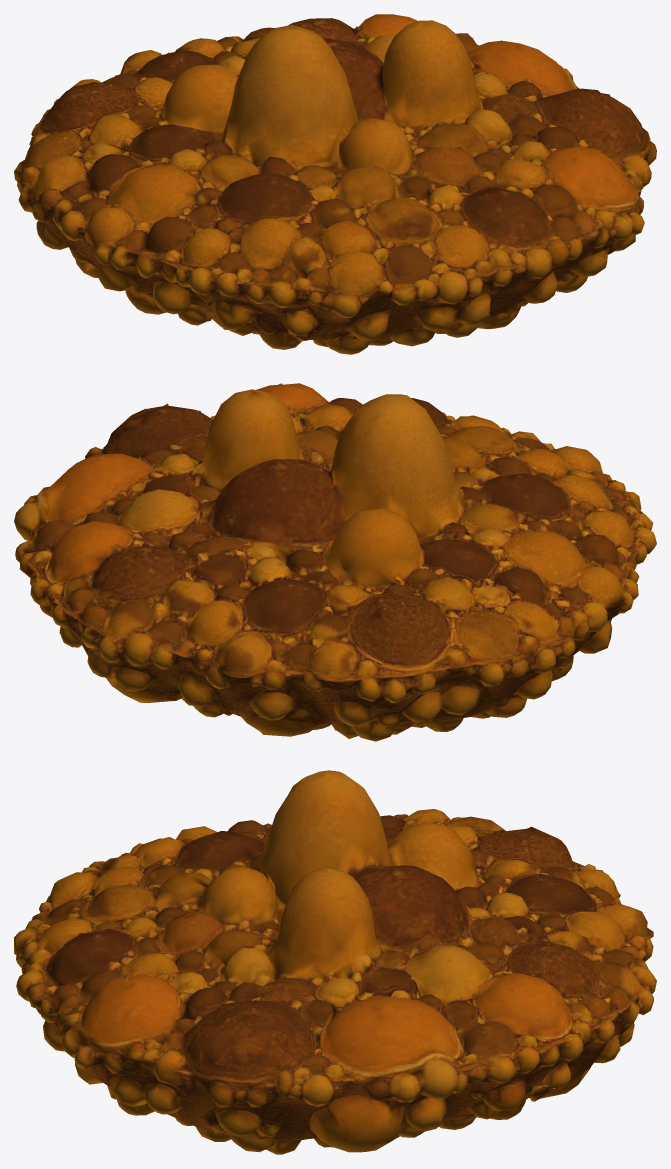
File: titan-raft.glb
3 renders of one model, top to bottom at view 1: azimuth 30°, elevation 25°; view 2: azimuth 150°, elevation 25°; view 3: azimuth 270°, elevation 25°, orthographic. The views are drawn at different scales.
Visible parts, largest first — view 1: tripo_node_f169d8f0-28ee-4800-aa0e-d570c71805b5; view 2: tripo_node_f169d8f0-28ee-4800-aa0e-d570c71805b5; view 3: tripo_node_f169d8f0-28ee-4800-aa0e-d570c71805b5.
Boxes of the visible parts, box(x1,y1,x2,y2) form: tripo_node_f169d8f0-28ee-4800-aa0e-d570c71805b5: box(14, 14, 656, 354); tripo_node_f169d8f0-28ee-4800-aa0e-d570c71805b5: box(14, 383, 656, 741); tripo_node_f169d8f0-28ee-4800-aa0e-d570c71805b5: box(14, 770, 656, 1154).
Size of the model in its own units: 0.9935 by 0.5039 by 0.997.
Materials: 1 (1 with a texture image).
